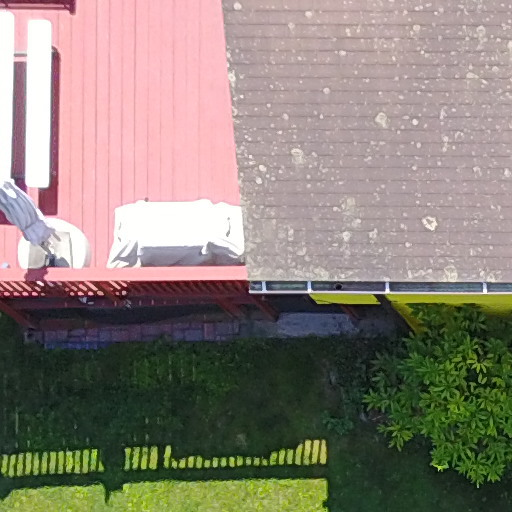porch: (2, 1, 298, 382)
